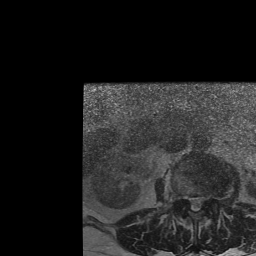CCS_normal: (192, 191, 198, 217)
LFS_stenosis: (204, 191, 211, 211)
LLS_stenosis: (199, 192, 204, 211)
RFS_stenosis: (181, 191, 188, 210)
RLS_stenosis: (187, 192, 192, 210)
